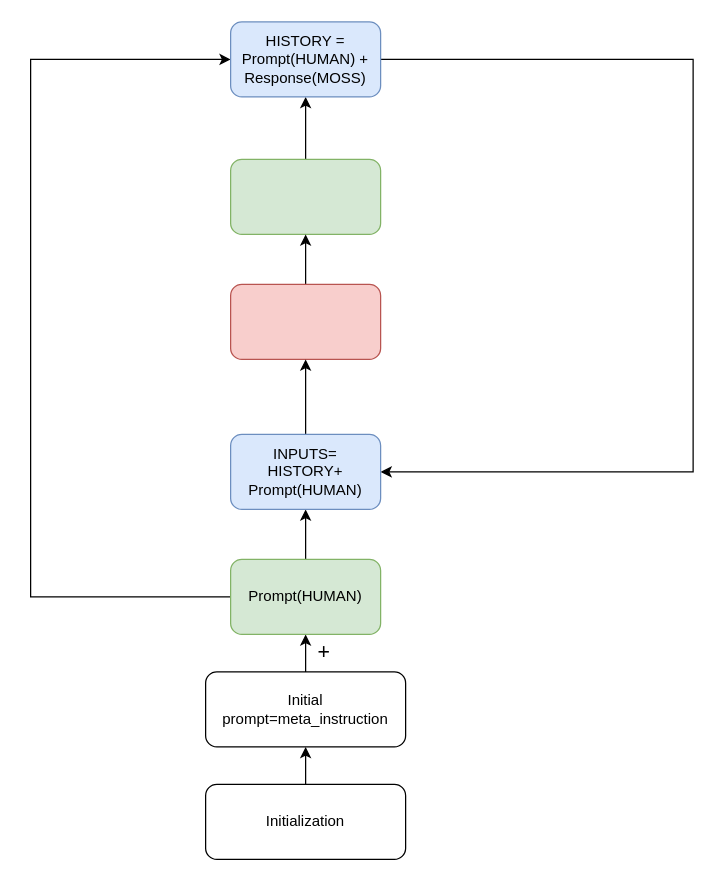
Some shapes in this 725 by 881 pixel diagram are drawn without their labels. Each missing label, with the centre of its shape:
MOSS: the point at 305,321
Response(MOSS): the point at 305,196
